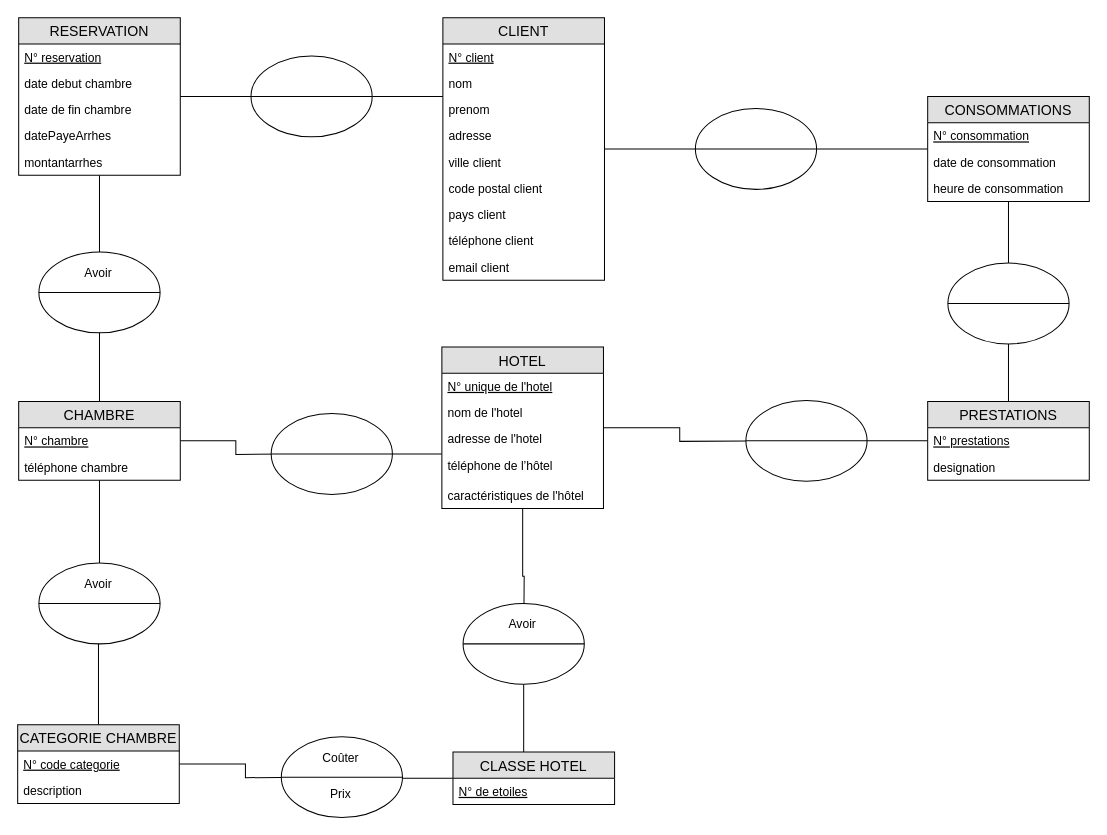
The diagram is 1107 pixels wide and 835 high, and some of its shapes have lost their labels. The shapes that lost their labels are listed below. From the top down, each one's centre as x and y in pixels, then its label:
At pixel 311 96: "Faire".
At pixel 755 148: "prendre".
At pixel 1008 303: "concerner".
At pixel 331 453: "Appartenir".
At pixel 806 440: "Offre".
